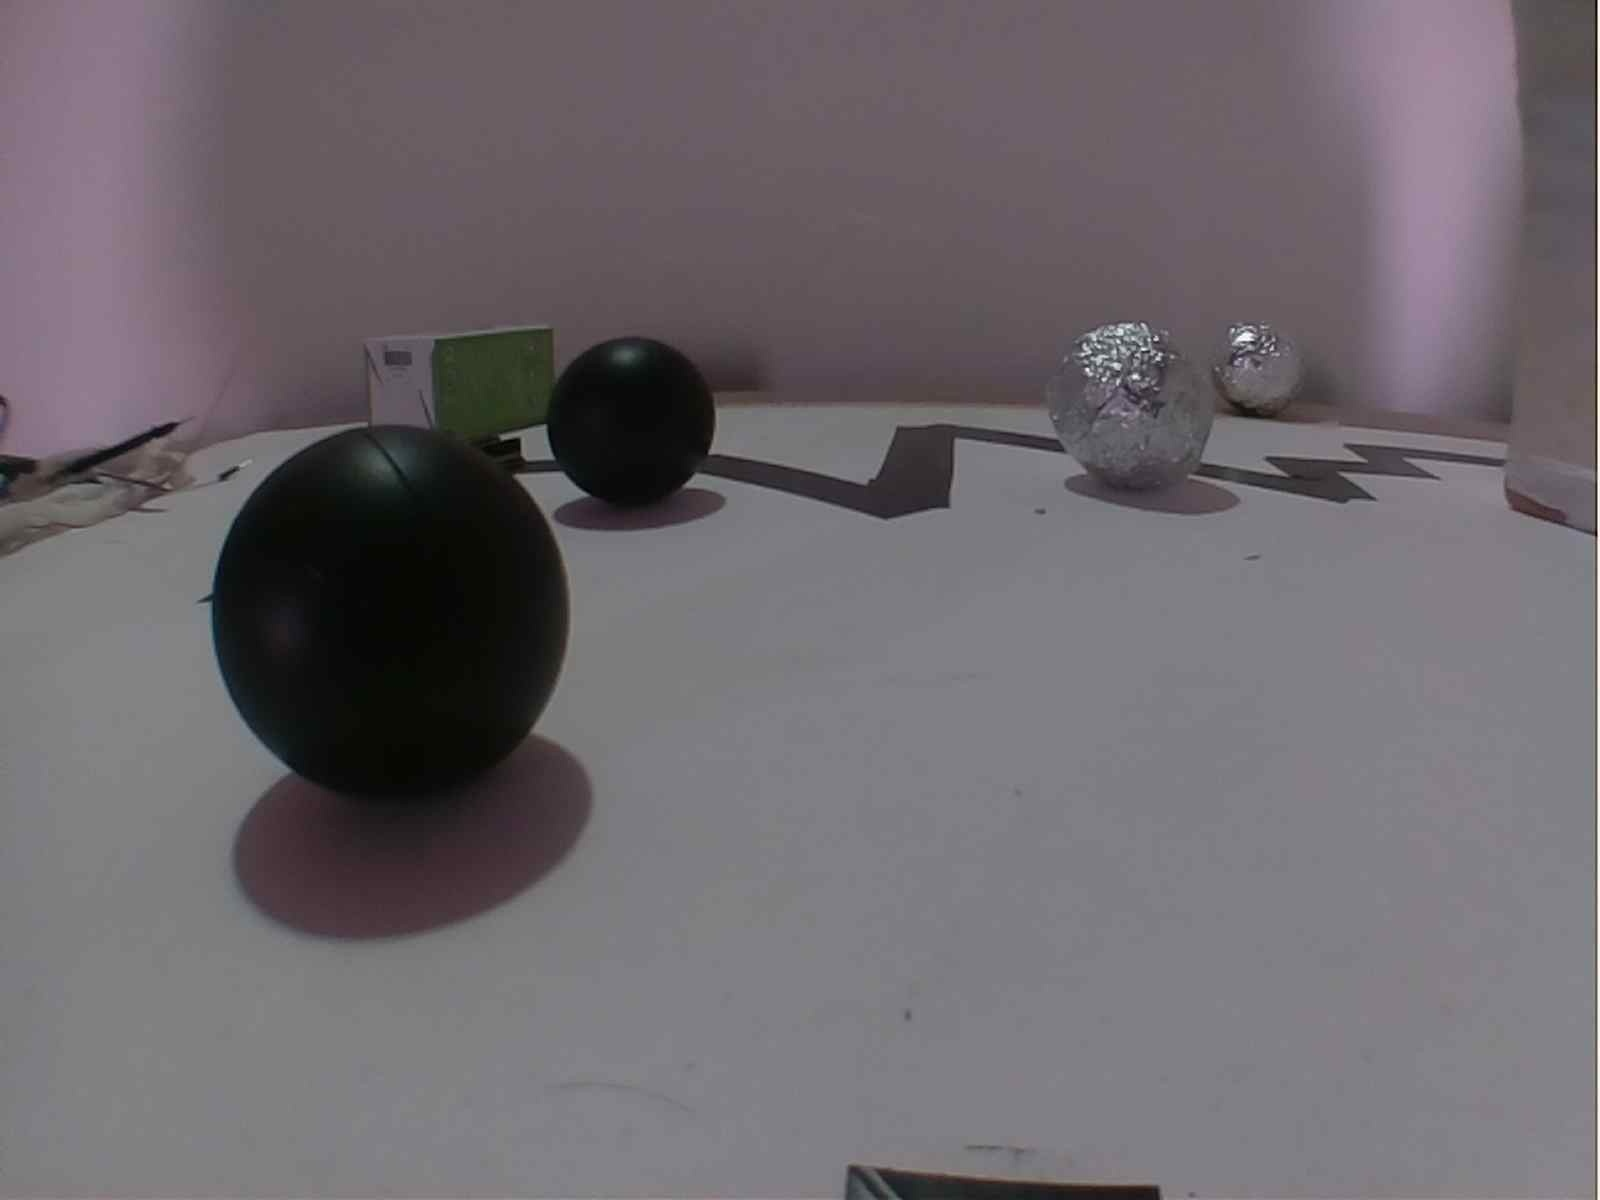bianca: (1041, 319, 1218, 497), (1204, 319, 1304, 411)
nera: (207, 418, 578, 816), (546, 332, 717, 512)
